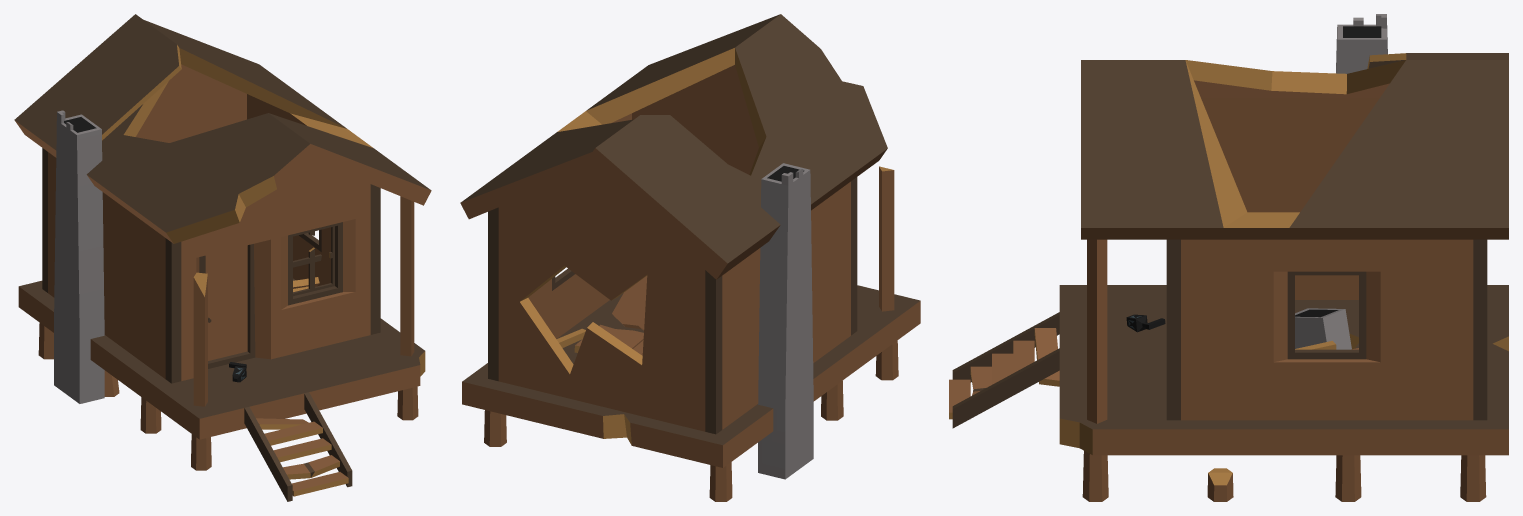
Rendered from apocalypse_building-cabin-small-apocalypse.fbx.
3 renders of one model, left to right at view 1: azimuth 30°, elevation 25°; view 2: azimuth 150°, elevation 25°; view 3: azimuth 270°, elevation 25°, orthographic. The views are drawn at different scales.
Parts seen in each view (by area): view 1: apocalypse_building_cabin_small_apocalypse; view 2: apocalypse_building_cabin_small_apocalypse; view 3: apocalypse_building_cabin_small_apocalypse.
Part boxes in pixels (<box>): apocalypse_building_cabin_small_apocalypse: <box>14,14,431,501</box>; apocalypse_building_cabin_small_apocalypse: <box>460,14,920,501</box>; apocalypse_building_cabin_small_apocalypse: <box>949,14,1508,501</box>.
Size of the model in its own units: 129 by 150 by 200.
